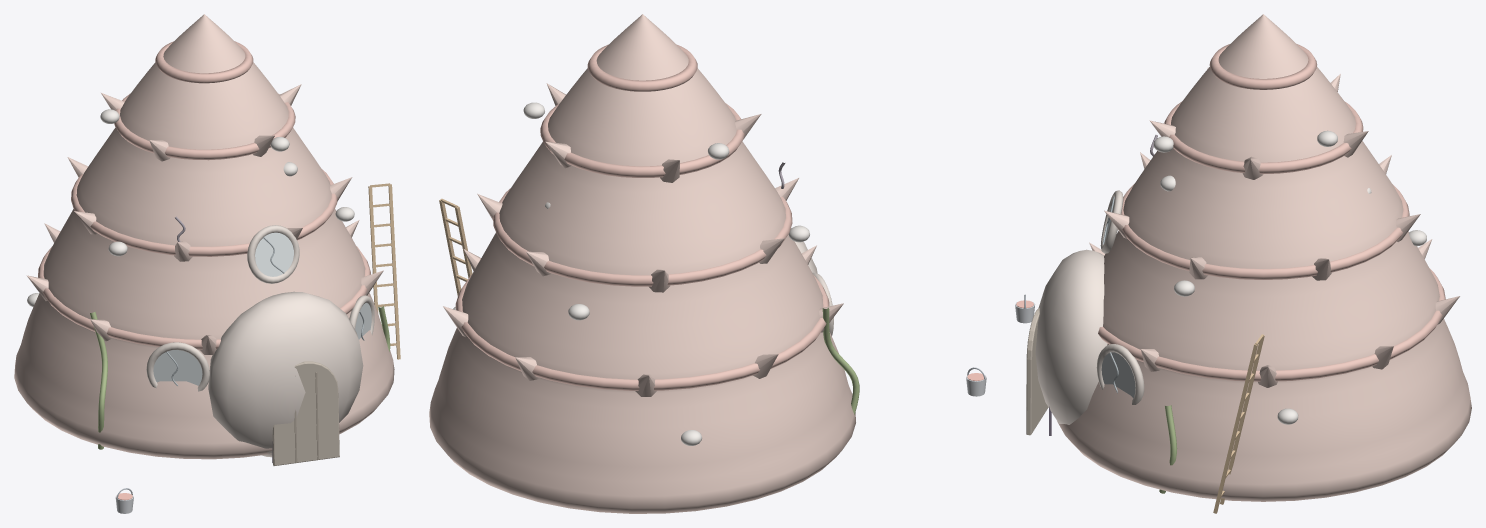
The model's file is building_ocean_L03.glb.
3 renders of one model, left to right at view 1: azimuth 30°, elevation 25°; view 2: azimuth 150°, elevation 25°; view 3: azimuth 270°, elevation 25°, orthographic. The views are drawn at different scales.
Parts seen in each view (by area): view 1: Body, ocean_L3; view 2: Body, ocean_L3; view 3: Body, ocean_L3.
Boxes of the visible parts, <box> form: Body: <box>14,14,394,465</box>; ocean_L3: <box>115,183,400,513</box>; Body: <box>429,14,859,513</box>; ocean_L3: <box>439,198,986,396</box>; Body: <box>1026,14,1471,501</box>; ocean_L3: <box>1015,294,1264,513</box>.
Size of the model in its own units: 17.18 by 16.4 by 16.3.
